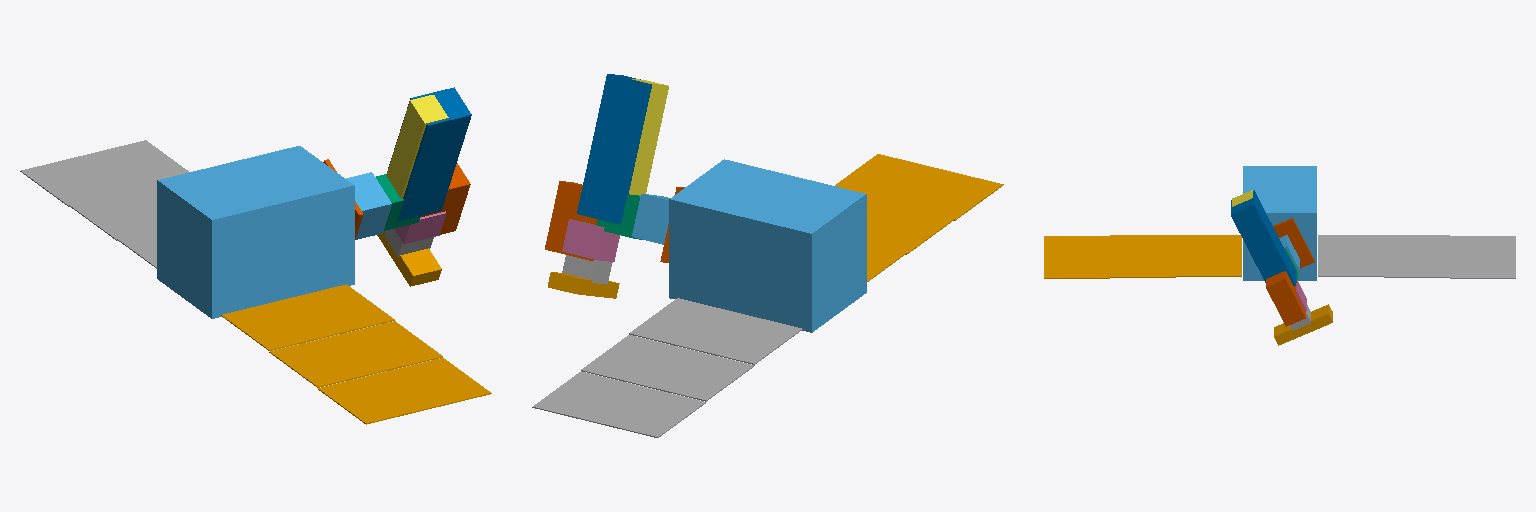
robot.urdf — unified_r2_c01_no_route_c_sim_candidate_v2:
<?xml version='1.0' encoding='utf-8'?>
<robot name="unified_r2_c01_no_route_c_sim_candidate_v2">
  <!--Source-static C01 candidate; no Route-C; broad-phase only; no contact, Sim13, production or flight authority-->
  <link name="spacecraft_bus">
    <inertial>
      <origin xyz="-0.0119840711789168 -6.659522079788254e-07 0.0007839544760700856" rpy="0 0 0" />
      <mass value="17.26823279235072" />
      <inertia ixx="0.122352710039767" ixy="2.19102407579873e-06" ixz="-0.0008852398604710216" iyy="0.2322105767612824" iyz="-1.000852766902935e-08" izz="0.2307345506459197" />
    </inertial>
  </link>
  <link name="bus_primary_structure_candidate_v1">
    <inertial>
      <origin xyz="0.03121899421170191 1.905526877979096e-06 2.344297084187758e-05" rpy="0 0 0" />
      <mass value="6.034980607649281" />
      <inertia ixx="0.07122970338863957" ixy="-1.694196697307865e-06" ixz="1.550382684043127e-05" iyy="0.1079781084474318" iyz="1.262783957595417e-09" izz="0.1079903210752449" />
    </inertial>
    <visual>
      <origin xyz="0 0 0" rpy="0 0 0" />
      <geometry>
        <box size="0.3405 0.2263 0.2263" />
      </geometry>
    </visual>
    <collision>
      <origin xyz="0 0 0" rpy="0 0 0" />
      <geometry>
        <box size="0.3405 0.2263 0.2263" />
      </geometry>
    </collision>
  </link>
  <link name="D_BUS_MATE_PHYSICAL" />
  <link name="M_DYNAMICS_NONPHYSICAL" />
  <link name="D_BUS_M6_PATTERN" />
  <link name="load_bridge_candidate">
    <inertial>
      <origin xyz="-1.272569222692219e-10 -1.072691633523576e-10 0.005375000000000074" rpy="0 0 0" />
      <mass value="0.7021954580000001" />
      <inertia ixx="0.001567906972732913" ixy="3.577867169202165e-18" ixz="9.433353601271602e-22" iyy="0.001567906972732919" iyz="2.022987917607558e-21" izz="0.003122289368361704" />
    </inertial>
    <visual>
      <origin xyz="-1.272569222692219e-10 -1.072691633523576e-10 0.005375000000000074" rpy="0 0 0" />
      <geometry>
        <box size="0.16 0.16 0.01075" />
      </geometry>
    </visual>
    <collision>
      <origin xyz="-1.272569222692219e-10 -1.072691633523576e-10 0.005375000000000074" rpy="0 0 0" />
      <geometry>
        <box size="0.16 0.16 0.01075" />
      </geometry>
    </collision>
  </link>
  <link name="m3r_lumped_link">
    <inertial>
      <origin xyz="-1.272569288182205e-10 -1.072691664294674e-10 -0.00461205511262569" rpy="0 0 0" />
      <mass value="0.7619" />
      <inertia ixx="0.001808962466764922" ixy="0" ixz="0" iyy="0.001808962466764922" iyz="0" izz="0.003594002755196379" />
    </inertial>
  </link>
  <link name="solar_r2_left_c01_snapshot">
    <inertial>
      <origin xyz="0 -0.231153846 0.009015385000000001" rpy="0 0 0" />
      <mass value="0.78" />
      <inertia ixx="0.03000478554649984" ixy="0" ixz="0" iyy="0.004930698924865386" iyz="-0.002295028962016152" izz="0.03317408662163446" />
    </inertial>
    <visual>
      <origin xyz="0 -0.1 0" rpy="1.570796326794897 0 0" />
      <geometry>
        <box size="0.3 0.0025 0.2" />
      </geometry>
    </visual>
    <collision>
      <origin xyz="0 -0.1 0" rpy="1.570796326794897 0 0" />
      <geometry>
        <box size="0.3 0.0025 0.2" />
      </geometry>
    </collision>
    <visual>
      <origin xyz="0 -0.3 -0.003" rpy="1.570796326794897 0 0" />
      <geometry>
        <box size="0.3 0.0025 0.2" />
      </geometry>
    </visual>
    <collision>
      <origin xyz="0 -0.3 -0.003" rpy="1.570796326794897 0 0" />
      <geometry>
        <box size="0.3 0.0025 0.2" />
      </geometry>
    </collision>
    <visual>
      <origin xyz="0 -0.5 -0.006" rpy="1.570796326794897 0 0" />
      <geometry>
        <box size="0.3 0.0025 0.2" />
      </geometry>
    </visual>
    <collision>
      <origin xyz="0 -0.5 -0.006" rpy="1.570796326794897 0 0" />
      <geometry>
        <box size="0.3 0.0025 0.2" />
      </geometry>
    </collision>
  </link>
  <link name="solar_r2_right_c01_snapshot">
    <inertial>
      <origin xyz="0 -0.231153846 0.009015385000000001" rpy="0 0 0" />
      <mass value="0.78" />
      <inertia ixx="0.03000478554649984" ixy="0" ixz="0" iyy="0.004930698924865386" iyz="-0.002295028962016152" izz="0.03317408662163446" />
    </inertial>
    <visual>
      <origin xyz="0 -0.1 0" rpy="1.570796326794897 0 0" />
      <geometry>
        <box size="0.3 0.0025 0.2" />
      </geometry>
    </visual>
    <collision>
      <origin xyz="0 -0.1 0" rpy="1.570796326794897 0 0" />
      <geometry>
        <box size="0.3 0.0025 0.2" />
      </geometry>
    </collision>
    <visual>
      <origin xyz="0 -0.3 -0.003" rpy="1.570796326794897 0 0" />
      <geometry>
        <box size="0.3 0.0025 0.2" />
      </geometry>
    </visual>
    <collision>
      <origin xyz="0 -0.3 -0.003" rpy="1.570796326794897 0 0" />
      <geometry>
        <box size="0.3 0.0025 0.2" />
      </geometry>
    </collision>
    <visual>
      <origin xyz="0 -0.5 -0.006" rpy="1.570796326794897 0 0" />
      <geometry>
        <box size="0.3 0.0025 0.2" />
      </geometry>
    </visual>
    <collision>
      <origin xyz="0 -0.5 -0.006" rpy="1.570796326794897 0 0" />
      <geometry>
        <box size="0.3 0.0025 0.2" />
      </geometry>
    </collision>
  </link>
  <link name="base_link">
    <inertial>
      <origin xyz="-7.849E-06 -1.1531E-06 0.029841" rpy="0 0 0" />
      <mass value="0.83660000" />
      <inertia ixx="0.00133040" ixy="0.00000001" ixz="0.00000000" iyy="0.00213119" iyz="0.00000000" izz="0.00275877" />
    </inertial>
    <visual>
      <origin xyz="8.499917997718473e-05 -2.199853002673655e-05 0.04247999572753906" rpy="0 0 0" />
      <geometry>
        <box size="0.09200000322496146 0.09200000138696146 0.08014999389648438" />
      </geometry>
    </visual>
    <collision>
      <origin xyz="8.499917997718473e-05 -2.199853002673655e-05 0.04247999572753906" rpy="0 0 0" />
      <geometry>
        <box size="0.09200000322496146 0.09200000138696146 0.08014999389648438" />
      </geometry>
    </collision>
  </link>
  <link name="link1">
    <inertial>
      <origin xyz="0.000113614552951627 -0.000616319527051323 0.0236476372671394" rpy="0 0 0" />
      <mass value="0.16130000" />
      <inertia ixx="0.00025207" ixy="0.00000000" ixz="-0.00002832" iyy="0.00015464" iyz="0.00000000" izz="0.00023416" />
    </inertial>
    <visual>
      <origin xyz="0.005269996107382928 -0.0001489951122414825 0.03867498168945314" rpy="0 0 0" />
      <geometry>
        <box size="0.08690398244527683 0.07725002229885372 0.09854998779296875" />
      </geometry>
    </visual>
    <collision>
      <origin xyz="0.005269996107382928 -0.0001489951122414825 0.03867498168945314" rpy="0 0 0" />
      <geometry>
        <box size="0.08690398244527683 0.07725002229885372 0.09854998779296875" />
      </geometry>
    </collision>
  </link>
  <link name="link2">
    <inertial>
      <origin xyz="-0.13225622308888 -0.0030617036386309 -0.0308306967030205" rpy="0 0 0" />
      <mass value="1.32660000" />
      <inertia ixx="0.00073374" ixy="-0.00000043" ixz="0.00000851" iyy="0.01255987" iyz="0.00000128" izz="0.01281387" />
    </inertial>
    <visual>
      <origin xyz="-0.1317469890528467 -3.600180598871752e-05 -0.03135502280805903" rpy="0 0 0" />
      <geometry>
        <box size="0.3209999871775209 0.05700004150792364 0.0680000663026154" />
      </geometry>
    </visual>
    <collision>
      <origin xyz="-0.1317469890528467 -3.600180598871752e-05 -0.03135502280805903" rpy="0 0 0" />
      <geometry>
        <box size="0.3209999871775209 0.05700004150792364 0.0680000663026154" />
      </geometry>
    </collision>
  </link>
  <link name="link3">
    <inertial>
      <origin xyz="0.121040035791843 -0.0536211076627949 -0.0310137854608077" rpy="0 0 0" />
      <mass value="0.83530000" />
      <inertia ixx="0.00046807" ixy="-0.00003456" ixz="-0.00004260" iyy="0.00632695" iyz="0.00000006" izz="0.00648221" />
    </inertial>
    <visual>
      <origin xyz="0.1222071857565317 -0.02882798038759631 -0.03103907740609459" rpy="0 0 0" />
      <geometry>
        <box size="0.2978256132761056 0.1050000225555362 0.08025002813858524" />
      </geometry>
    </visual>
    <collision>
      <origin xyz="0.1222071857565317 -0.02882798038759631 -0.03103907740609459" rpy="0 0 0" />
      <geometry>
        <box size="0.2978256132761056 0.1050000225555362 0.08025002813858524" />
      </geometry>
    </collision>
  </link>
  <link name="link4">
    <inertial>
      <origin xyz="0.0608200956293136 -0.0511711906613122 -0.030299458623927" rpy="0 0 0" />
      <mass value="0.52000000" />
      <inertia ixx="0.00045986" ixy="0.00024219" ixz="-0.00000672" iyy="0.00075258" iyz="-0.00000535" izz="0.00066742" />
    </inertial>
    <visual>
      <origin xyz="0.0434137481741332 -0.02835430394286825 -0.02998999208665866" rpy="0 0 0" />
      <geometry>
        <box size="0.1458839520749378 0.1159573718410664 0.06676003282946874" />
      </geometry>
    </visual>
    <collision>
      <origin xyz="0.0434137481741332 -0.02835430394286825 -0.02998999208665866" rpy="0 0 0" />
      <geometry>
        <box size="0.1458839520749378 0.1159573718410664 0.06676003282946874" />
      </geometry>
    </collision>
  </link>
  <link name="link5">
    <inertial>
      <origin xyz="-0.00502802058982517 1.73866206692364E-06 0.0386233236326755" rpy="0 0 0" />
      <mass value="0.38300000" />
      <inertia ixx="0.00019772" ixy="-0.00000062" ixz="-0.00002426" iyy="0.00021737" iyz="0.00000002" izz="0.00017191" />
    </inertial>
    <visual>
      <origin xyz="-0.001675022376686926 -8.702040021112134e-05 0.03673899048289639" rpy="0 0 0" />
      <geometry>
        <box size="0.07000000259065592 0.07699999777302086 0.08503997558596882" />
      </geometry>
    </visual>
    <collision>
      <origin xyz="-0.001675022376686926 -8.702040021112134e-05 0.03673899048289639" rpy="0 0 0" />
      <geometry>
        <box size="0.07000000259065592 0.07699999777302086 0.08503997558596882" />
      </geometry>
    </collision>
  </link>
  <link name="link6">
    <inertial>
      <origin xyz="3.76418727127126E-06 -0.000100908819946677 0.0253308606425965" rpy="0 0 0" />
      <mass value="0.36630000" />
      <inertia ixx="0.00015554" ixy="-0.00000" ixz="-0.00000" iyy="0.00015554" iyz="-0.0000" izz="0.00013966" />
    </inertial>
    <visual>
      <origin xyz="-3.647241183992248e-05 7.391637363161202e-06 0.02679569344518634" rpy="0 0 0" />
      <geometry>
        <box size="0.07700004738170349 0.06350450150569048 0.06150011133261792" />
      </geometry>
    </visual>
    <collision>
      <origin xyz="-3.647241183992248e-05 7.391637363161202e-06 0.02679569344518634" rpy="0 0 0" />
      <geometry>
        <box size="0.07700004738170349 0.06350450150569048 0.06150011133261792" />
      </geometry>
    </collision>
  </link>
  <link name="gripper_link">
    <inertial>
      <origin xyz="-0.11400456131826 7.30809328589541E-05 -8.098254686284E-08" rpy="0 0 0" />
      <mass value="0.181800159145243" />
      <inertia ixx="0.000232385828322385" ixy="-2.77584025941111E-07" ixz="-6.04874349510246E-10" iyy="5.85085867377427E-05" iyz="-1.15493362444215E-08" izz="0.000205213535851537" />
    </inertial>
    <visual>
      <origin xyz="-0.09061401748657226 7.431030273438721e-06 3.702545166015675e-05" rpy="0 0 0" />
      <geometry>
        <box size="0.0330999984741211 0.1840696716308594 0.06846666717529297" />
      </geometry>
    </visual>
    <collision>
      <origin xyz="-0.09061401748657226 7.431030273438721e-06 3.702545166015675e-05" rpy="0 0 0" />
      <geometry>
        <box size="0.0330999984741211 0.1840696716308594 0.06846666717529297" />
      </geometry>
    </collision>
  </link>
  <link name="gripper_left">
    <inertial>
      <origin xyz="0.00937154605945142 -0.0183514409006279 -0.00213050813223617" rpy="0 0 0" />
      <mass value="0.0423278952416158" />
      <inertia ixx="9.68819007445228E-06" ixy="-1.14547785891207E-06" ixz="1.82410432419993E-08" iyy="9.7195653452821E-06" iyz="1.20737618180169E-07" izz="1.13638462227589E-05" />
    </inertial>
  </link>
  <link name="gripper_right">
    <inertial>
      <origin xyz="0.00937154599936671 0.0183514410059713 0.00213050822993754" rpy="0 0 0" />
      <mass value="0.0423278949561274" />
      <inertia ixx="9.68819002375832E-06" ixy="1.14547786360874E-06" ixz="-1.82410118281856E-08" iyy="9.7195652747221E-06" iyz="1.20737613592695E-07" izz="1.13638461944347E-05" />
    </inertial>
  </link>
  <joint name="joint1" type="revolute">
    <origin xyz="-8.416E-05 0 0.08465" rpy="0 0 0" />
    <parent link="base_link" />
    <child link="link1" />
    <axis xyz="0 0 1" />
    <limit lower="-2.8" upper="2.8" effort="27" velocity="50" />
  </joint>
  <joint name="joint2" type="revolute">
    <origin xyz="0.020084 0.031625 0.05555" rpy="-1.5708 0 0" />
    <parent link="link1" />
    <child link="link2" />
    <axis xyz="0 0 -1" />
    <limit lower="-3.14" upper="0" effort="27" velocity="50" />
  </joint>
  <joint name="joint3" type="revolute">
    <origin xyz="-0.264 0 0" rpy="0 0 0" />
    <parent link="link2" />
    <child link="link3" />
    <axis xyz="0 0 1" />
    <limit lower="-3.14" upper="0" effort="27" velocity="50" />
  </joint>
  <joint name="joint4" type="revolute">
    <origin xyz="0.2426 -0.054 -0.001625" rpy="0 0 0" />
    <parent link="link3" />
    <child link="link4" />
    <axis xyz="0 0 1" />
    <limit lower="-1.87" upper="1.57" effort="7" velocity="200" />
  </joint>
  <joint name="joint5" type="revolute">
    <origin xyz="0.078308 -0.0375 -0.03" rpy="-1.5708 0 0" />
    <parent link="link4" />
    <child link="link5" />
    <axis xyz="0 0 1" />
    <limit lower="-1.57" upper="1.57" effort="7" velocity="200" />
  </joint>
  <joint name="joint6" type="revolute">
    <origin xyz="0.023692 0 0.04" rpy="0 1.5708 0" />
    <parent link="link5" />
    <child link="link6" />
    <axis xyz="0 0 1" />
    <limit lower="-3.14" upper="3.14" effort="7" velocity="200" />
  </joint>
  <joint name="gripper_joint" type="fixed">
    <origin xyz="0 0 0.15971" rpy="0 -1.5708 0" />
    <parent link="link6" />
    <child link="gripper_link" />
    <axis xyz="0 0 0" />
  </joint>
  <joint name="gripper_joint1" type="prismatic">
    <origin xyz="-0.042091 2.7531E-05 -1.3031E-05" rpy="0 0 -1.5708" />
    <parent link="gripper_link" />
    <child link="gripper_left" />
    <axis xyz="1 0 0" />
    <limit lower="0" upper="0.0715" effort="100" velocity="15" />
  </joint>
  <joint name="gripper_joint2" type="prismatic">
    <origin xyz="-0.042091 -2.7531E-05 1.3031E-05" rpy="0 0 1.5708" />
    <parent link="gripper_link" />
    <child link="gripper_right" />
    <axis xyz="1 0 0" />
    <limit lower="0" upper="0.0715" effort="100" velocity="15" />
  </joint>
  <joint name="bus_to_bus_primary_structure_candidate_v1" type="fixed">
    <parent link="spacecraft_bus" />
    <child link="bus_primary_structure_candidate_v1" />
    <origin xyz="0 0 0" rpy="0 -0 0" />
  </joint>
  <joint name="bus_to_D_BUS_MATE_PHYSICAL" type="fixed">
    <parent link="spacecraft_bus" />
    <child link="D_BUS_MATE_PHYSICAL" />
    <origin xyz="0.18525 0 0" rpy="-0 1.570796326794897 0" />
  </joint>
  <joint name="D_BUS_MATE_PHYSICAL_to_D_BUS_M6_PATTERN" type="fixed">
    <parent link="D_BUS_MATE_PHYSICAL" />
    <child link="D_BUS_M6_PATTERN" />
    <origin xyz="8.636607e-05 1.5994151e-05 0" rpy="0 -0 0.4363325573440537" />
  </joint>
  <joint name="D_BUS_M6_PATTERN_to_load_bridge_candidate" type="fixed">
    <parent link="D_BUS_M6_PATTERN" />
    <child link="load_bridge_candidate" />
    <origin xyz="0 0 0" rpy="0 -0 0" />
  </joint>
  <joint name="load_bridge_candidate_to_m3r_lumped_link" type="fixed">
    <parent link="load_bridge_candidate" />
    <child link="m3r_lumped_link" />
    <origin xyz="4.235164736271502e-21 0 0.02274999999999999" rpy="0 -0 0" />
  </joint>
  <joint name="m3r_lumped_link_to_base_link" type="fixed">
    <parent link="m3r_lumped_link" />
    <child link="base_link" />
    <origin xyz="-8.503365669377021e-05 2.200427555603084e-05 0" rpy="0 -0 0" />
  </joint>
  <joint name="bus_to_M_DYNAMICS_NONPHYSICAL" type="fixed">
    <parent link="spacecraft_bus" />
    <child link="M_DYNAMICS_NONPHYSICAL" />
    <origin xyz="0.18525 0 0" rpy="-0 1.570796326794897 0" />
  </joint>
  <joint name="bus_to_solar_r2_left_c01_snapshot" type="fixed">
    <parent link="spacecraft_bus" />
    <child link="solar_r2_left_c01_snapshot" />
    <origin xyz="0 0.1154 -0.10815" rpy="0 -0 3.141592653589793" />
  </joint>
  <joint name="bus_to_solar_r2_right_c01_snapshot" type="fixed">
    <parent link="spacecraft_bus" />
    <child link="solar_r2_right_c01_snapshot" />
    <origin xyz="0 -0.1154 -0.10815" rpy="0 -0 0" />
  </joint>
</robot>

--- Render facts (derived) ---
The picture shows the robot from 3 angles, left to right: view 1: azimuth 30°, elevation 25°; view 2: azimuth 150°, elevation 25°; view 3: azimuth 270°, elevation 25°; orthographic projection.
Model unified_r2_c01_no_route_c_sim_candidate_v2 with 19 links and 18 joints (6 revolute, 2 prismatic, 10 fixed), rooted at spacecraft_bus, posed every joint at zero.
Visible links, largest first — view 1: bus_primary_structure_candidate_v1, solar_r2_right_c01_snapshot, solar_r2_left_c01_snapshot, link3, link2, base_link, gripper_link, link4, link5, link1, link6; view 2: bus_primary_structure_candidate_v1, solar_r2_left_c01_snapshot, solar_r2_right_c01_snapshot, link3, link2, link5, link4, base_link, gripper_link, link6, link1; view 3: solar_r2_left_c01_snapshot, solar_r2_right_c01_snapshot, bus_primary_structure_candidate_v1, link3, link4, gripper_link, load_bridge_candidate.
Link boxes in pixels (x1=…): bus_primary_structure_candidate_v1: x1=157, y1=146, x2=354, y2=318; solar_r2_right_c01_snapshot: x1=221, y1=284, x2=491, y2=424; solar_r2_left_c01_snapshot: x1=20, y1=140, x2=188, y2=268; link3: x1=388, y1=87, x2=471, y2=220; link2: x1=386, y1=95, x2=448, y2=198; base_link: x1=346, y1=172, x2=391, y2=239; gripper_link: x1=377, y1=231, x2=441, y2=286; link4: x1=420, y1=163, x2=470, y2=234; link5: x1=395, y1=211, x2=446, y2=243; link1: x1=376, y1=174, x2=420, y2=230; link6: x1=384, y1=229, x2=433, y2=256; bus_primary_structure_candidate_v1: x1=669, y1=159, x2=866, y2=332; solar_r2_left_c01_snapshot: x1=532, y1=298, x2=802, y2=437; solar_r2_right_c01_snapshot: x1=835, y1=154, x2=1003, y2=281; link3: x1=577, y1=74, x2=651, y2=224; link2: x1=629, y1=79, x2=668, y2=195; link5: x1=562, y1=219, x2=619, y2=261; link4: x1=545, y1=181, x2=597, y2=260; base_link: x1=632, y1=194, x2=669, y2=244; gripper_link: x1=548, y1=272, x2=619, y2=298; link6: x1=562, y1=255, x2=612, y2=284; link1: x1=596, y1=194, x2=641, y2=239; solar_r2_left_c01_snapshot: x1=1318, y1=235, x2=1515, y2=278; solar_r2_right_c01_snapshot: x1=1044, y1=235, x2=1241, y2=278; bus_primary_structure_candidate_v1: x1=1243, y1=166, x2=1316, y2=280; link3: x1=1231, y1=190, x2=1295, y2=285; link4: x1=1266, y1=271, x2=1305, y2=326; gripper_link: x1=1274, y1=304, x2=1332, y2=345; load_bridge_candidate: x1=1273, y1=218, x2=1314, y2=268.
Bounding box of the posed robot: 0.6588 × 1.43 × 0.4702 m (x, y, z).
Geometry: primitives only (box / cylinder / sphere), no mesh files.
